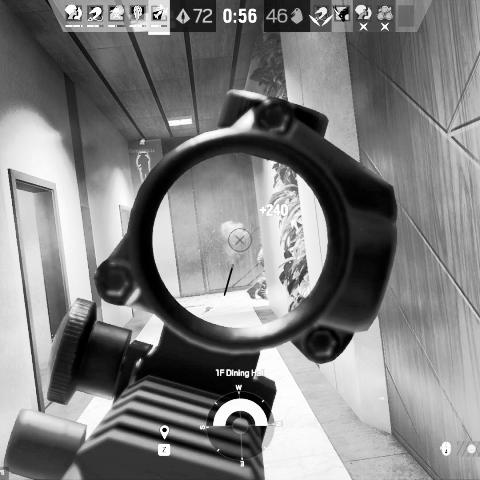Character: (245, 245, 268, 303)
Friend_label: (130, 138, 156, 155)
